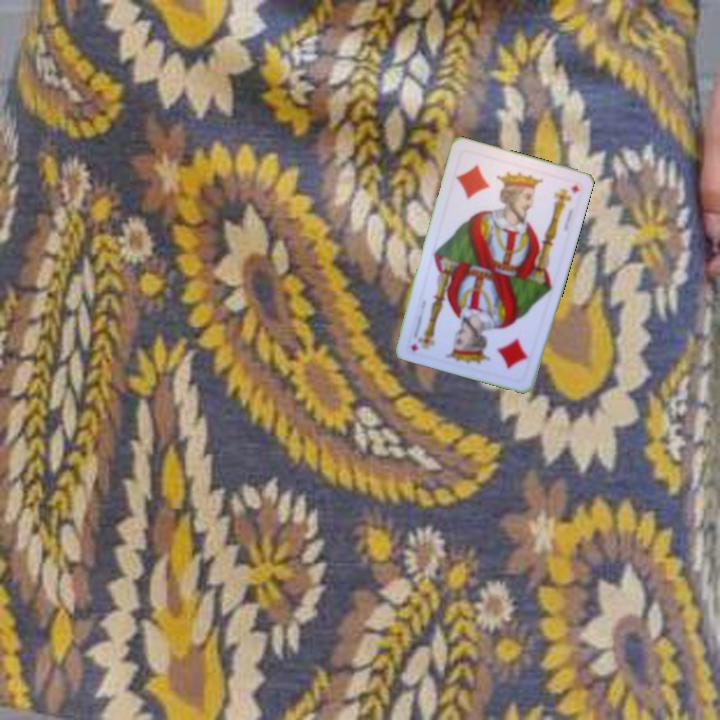d_k.png: (463, 311, 542, 384), (446, 147, 524, 219)
